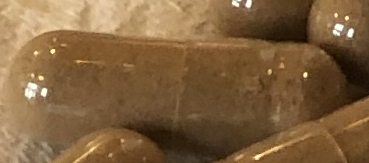capsule: (7, 28, 341, 158), (218, 93, 367, 163), (51, 126, 172, 163)
